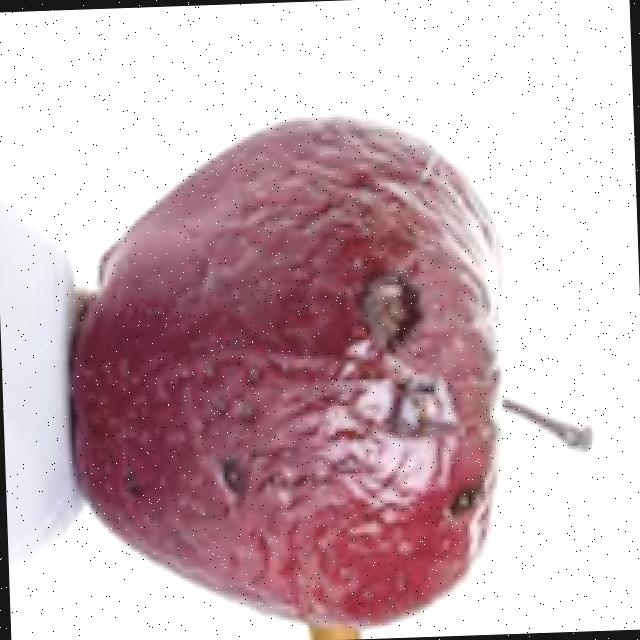Rotten: (52, 109, 527, 636)
